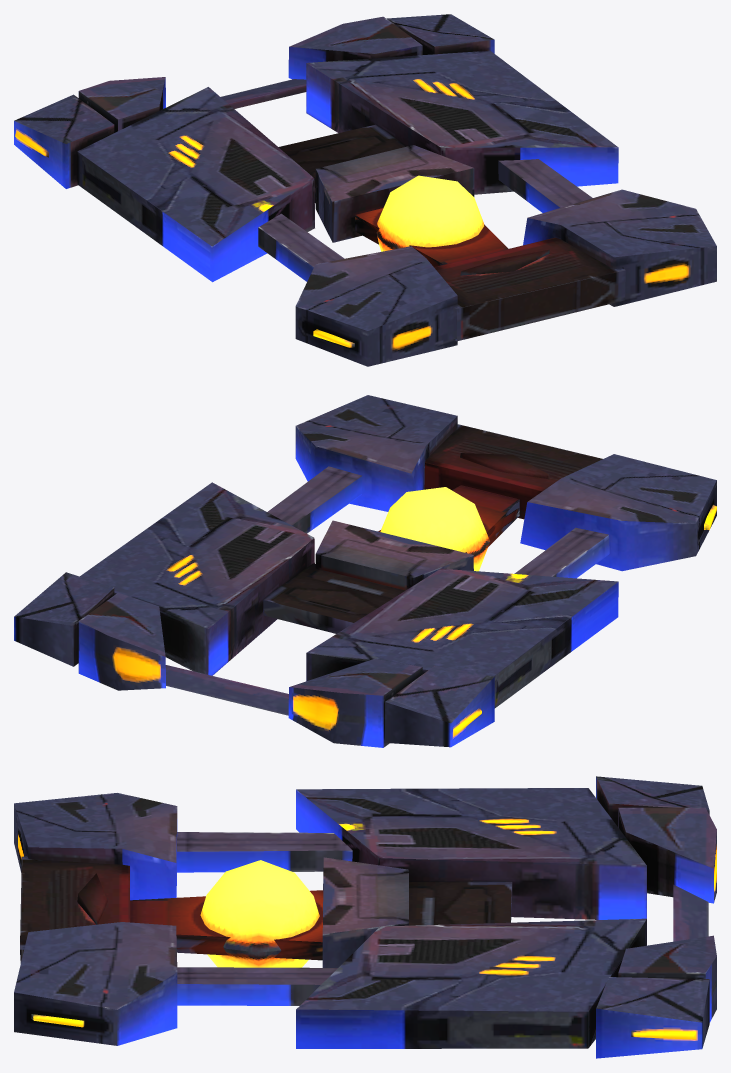
Rendered from protegit.glb.
The picture shows the model from 3 angles, top to bottom: view 1: azimuth 30°, elevation 25°; view 2: azimuth 150°, elevation 25°; view 3: azimuth 270°, elevation 25°; orthographic projection. The views are drawn at different scales.
Parts seen in each view (by area): view 1: protegit; view 2: protegit; view 3: protegit.
Boxes of the visible parts, x1,y1,x2,y2 form: protegit: (14,14,716,366); protegit: (14,395,716,747); protegit: (14,776,716,1058).
Size of the model in its own units: 36.9 by 8.31 by 45.77.
1 material, 1 textured.
